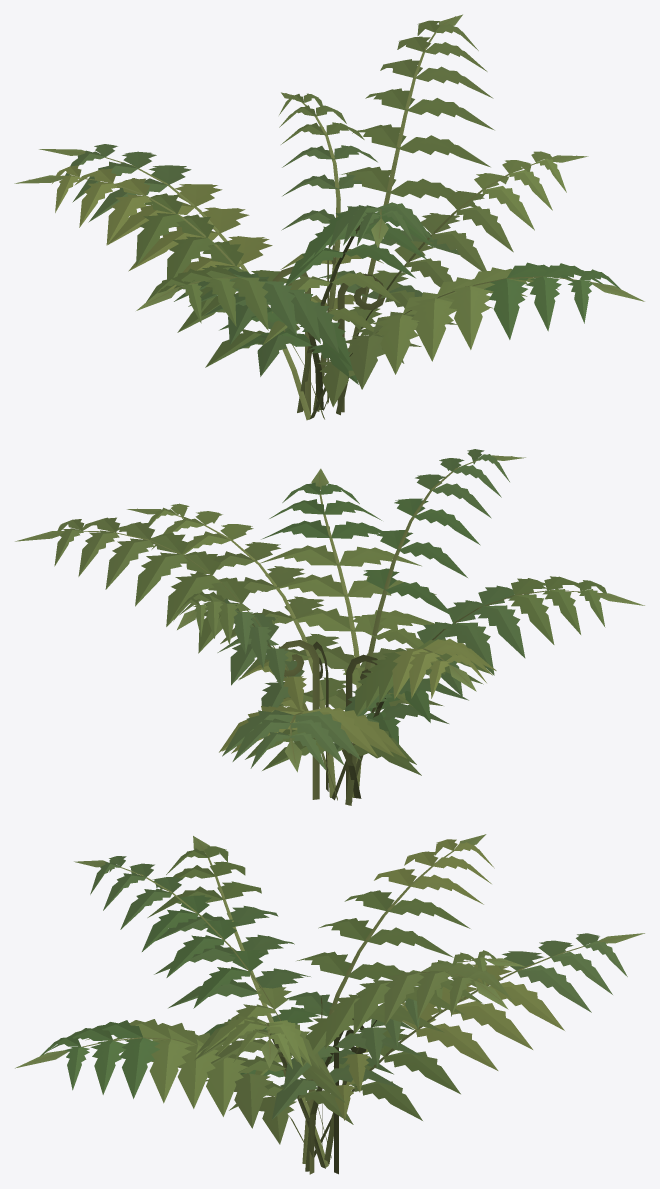
File: fern_spray.glb
3 renders of one model, top to bottom at view 1: azimuth 30°, elevation 25°; view 2: azimuth 150°, elevation 25°; view 3: azimuth 270°, elevation 25°, orthographic.
Visible parts, largest first — view 1: fern_spray; view 2: fern_spray; view 3: fern_spray.
Part boxes in pixels (box(x1,y1,x2,y2)): fern_spray: box(14, 14, 644, 420); fern_spray: box(15, 449, 644, 805); fern_spray: box(15, 834, 644, 1174).
Size of the model in its own units: 1.06 by 0.5909 by 1.18.
